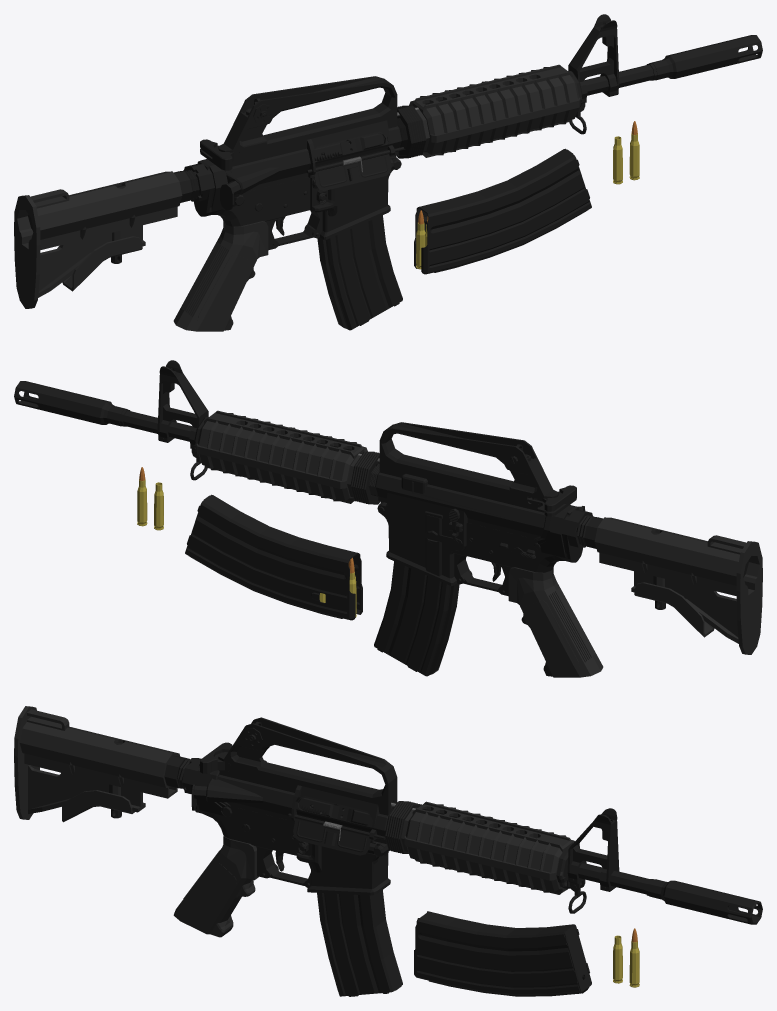
File: colt_xm177_car-15.glb
3 renders of one model, top to bottom at view 1: azimuth 30°, elevation 25°; view 2: azimuth 150°, elevation 25°; view 3: azimuth 330°, elevation 25°, orthographic.
Visible parts, largest first — view 1: xm177 stock _16, 55645 ar15 30rnd mag (steel)_13, xm177 upper receiver_8, xm177 handguard_17, xm177 lower receiver_0, 55645 ar15 30rnd mag empty (steel)_14, xm177 pistol grip_9, xm177 barrel_10, xm177 flash hider_15, xm177 dust cover_7, xm177 bolt carrier_5, xm177 charging handle_3; view 2: xm177 stock _16, xm177 upper receiver_8, 55645 ar15 30rnd mag (steel)_13, xm177 lower receiver_0, xm177 handguard_17, 55645 ar15 30rnd mag empty (steel)_14, xm177 pistol grip_9, xm177 barrel_10, xm177 flash hider_15, xm177 charging handle_3; view 3: xm177 stock _16, xm177 upper receiver_8, 55645 ar15 30rnd mag (steel)_13, xm177 handguard_17, xm177 lower receiver_0, 55645 ar15 30rnd mag empty (steel)_14, xm177 pistol grip_9, xm177 barrel_10, xm177 flash hider_15, xm177 dust cover_7, xm177 bolt carrier_5, xm177 charging handle_3 (+1 smaller).
Boxes of the visible parts, x1,y1,x2,y2 form: xm177 stock _16: [14, 171, 182, 308]; 55645 ar15 30rnd mag (steel)_13: [414, 148, 591, 274]; xm177 upper receiver_8: [218, 76, 408, 210]; xm177 handguard_17: [409, 64, 581, 157]; xm177 lower receiver_0: [28, 156, 401, 250]; 55645 ar15 30rnd mag empty (steel)_14: [317, 215, 402, 330]; xm177 pistol grip_9: [173, 221, 268, 331]; xm177 barrel_10: [396, 14, 653, 158]; xm177 flash hider_15: [646, 35, 762, 80]; xm177 dust cover_7: [306, 147, 404, 190]; xm177 bolt carrier_5: [314, 133, 384, 161]; xm177 charging handle_3: [200, 139, 239, 170]; xm177 stock _16: [594, 517, 762, 654]; xm177 upper receiver_8: [368, 422, 585, 539]; 55645 ar15 30rnd mag (steel)_13: [185, 494, 362, 620]; xm177 lower receiver_0: [377, 502, 748, 596]; xm177 handguard_17: [195, 410, 367, 503]; 55645 ar15 30rnd mag empty (steel)_14: [374, 561, 459, 676]; xm177 pistol grip_9: [508, 567, 603, 677]; xm177 barrel_10: [123, 360, 380, 504]; xm177 flash hider_15: [14, 381, 130, 426]; xm177 charging handle_3: [527, 485, 576, 516]; xm177 stock _16: [14, 706, 180, 822]; xm177 upper receiver_8: [191, 717, 397, 851]; 55645 ar15 30rnd mag (steel)_13: [414, 911, 591, 996]; xm177 handguard_17: [401, 801, 574, 894]; xm177 lower receiver_0: [114, 741, 390, 895]; 55645 ar15 30rnd mag empty (steel)_14: [317, 890, 402, 996]; xm177 pistol grip_9: [173, 836, 258, 937]; xm177 barrel_10: [384, 801, 649, 913]; xm177 flash hider_15: [645, 879, 762, 924]; xm177 dust cover_7: [288, 813, 385, 855]; xm177 bolt carrier_5: [299, 798, 371, 825]; xm177 charging handle_3: [200, 742, 232, 773].
Size of the model in its own units: 7.69 by 2.52 by 0.6525.
